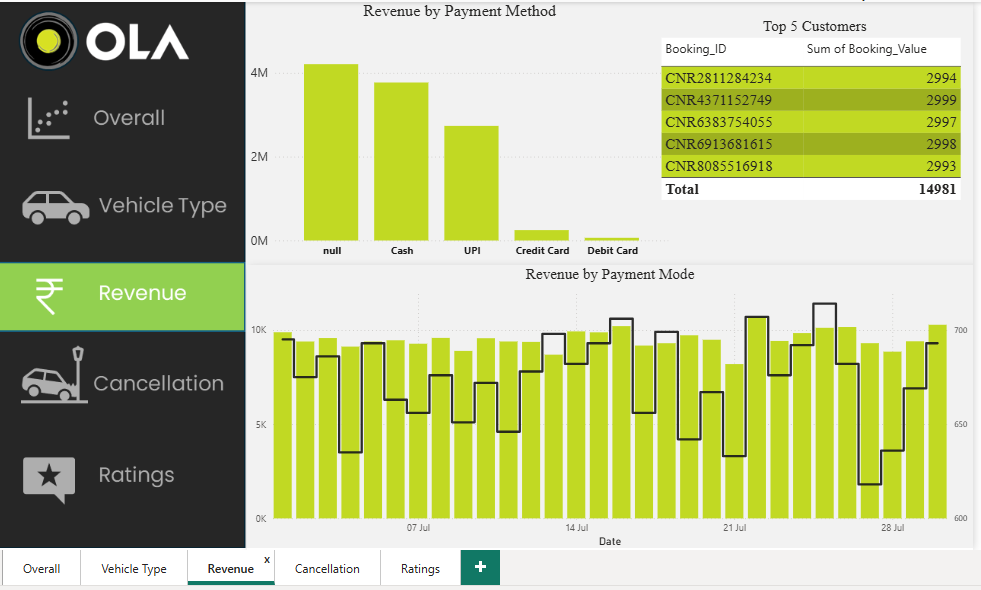

What the dashboard file says about the page in this screenshot:
{"tool":"powerbi","page":{"name":"Revenue","canvas":[1280,720],"ordinal":2},"visuals":[{"type":"columnChart","title":"Revenue by Payment Method","fields":{"Category":["Bookings.Payment_Method"],"Y":["Sum(Bookings.Booking_Value)"]},"box":[325.9,0,559.4,344.4],"z":0},{"type":"lineStackedColumnComboChart","title":"Revenue by Payment Mode","fields":{"Category":["Bookings.Date"],"Y":["Sum(Bookings.Ride_Distance)"],"Y2":["CountNonNull(Bookings.Payment_Method)"]},"box":[325.8,345.1,954.2,375.9],"z":1000},{"type":"tableEx","title":"Top 5 Customers","fields":{"Values":["Bookings.Booking_ID","Sum(Bookings.Booking_Value)"]},"box":[865.1,0,414.9,292.3],"z":2000}]}

Visuals, with their boxes on the page's 1280x720 design canvas (x1, y1, x2, y2). These are canvas units, not pixel positions in the 981x590 screenshot, which may show the page scaled, cropped or inside an application window:
"Revenue by Payment Method" columnChart: (326, 0, 885, 344)
"Revenue by Payment Mode" lineStackedColumnComboChart: (326, 345, 1280, 721)
"Top 5 Customers" tableEx: (865, 0, 1280, 292)
